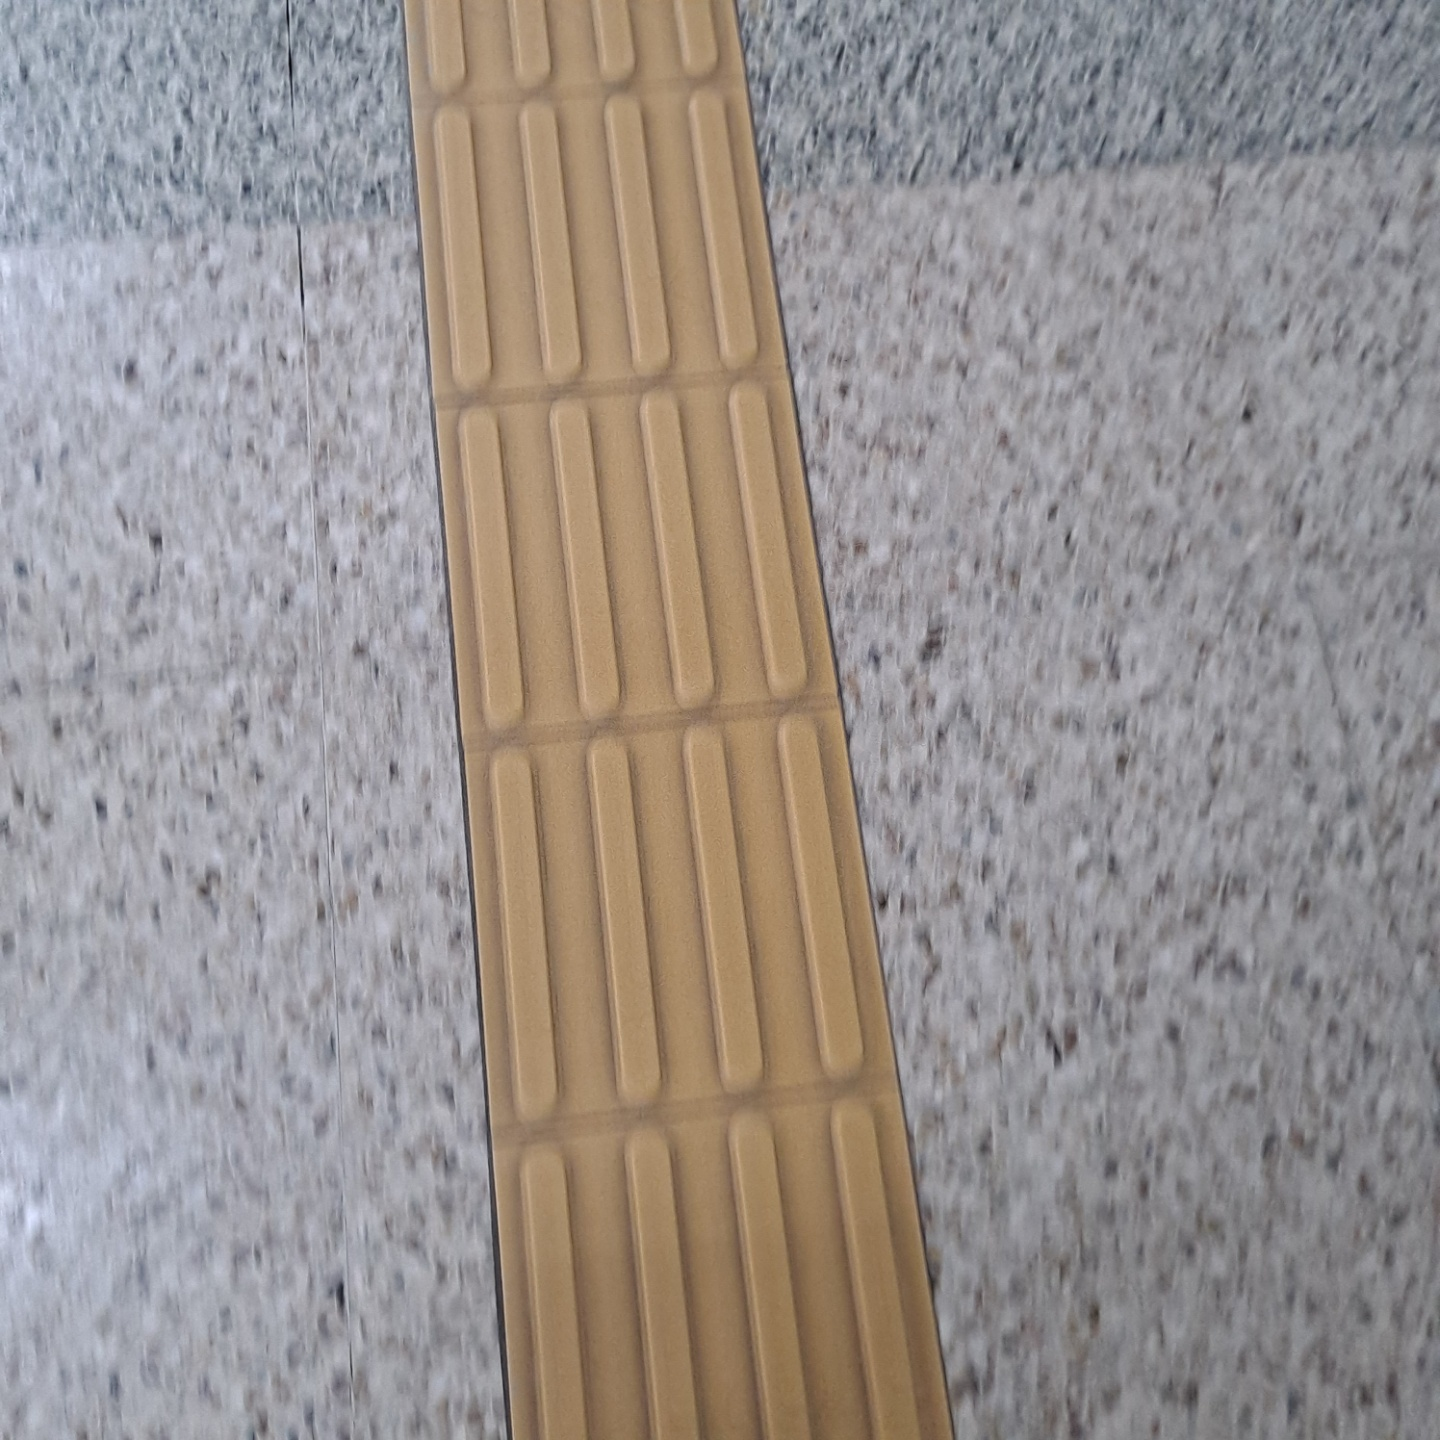guideBlock: (401, 733, 920, 1149), (520, 1121, 1001, 1440), (417, 4, 775, 386), (451, 392, 847, 721)
